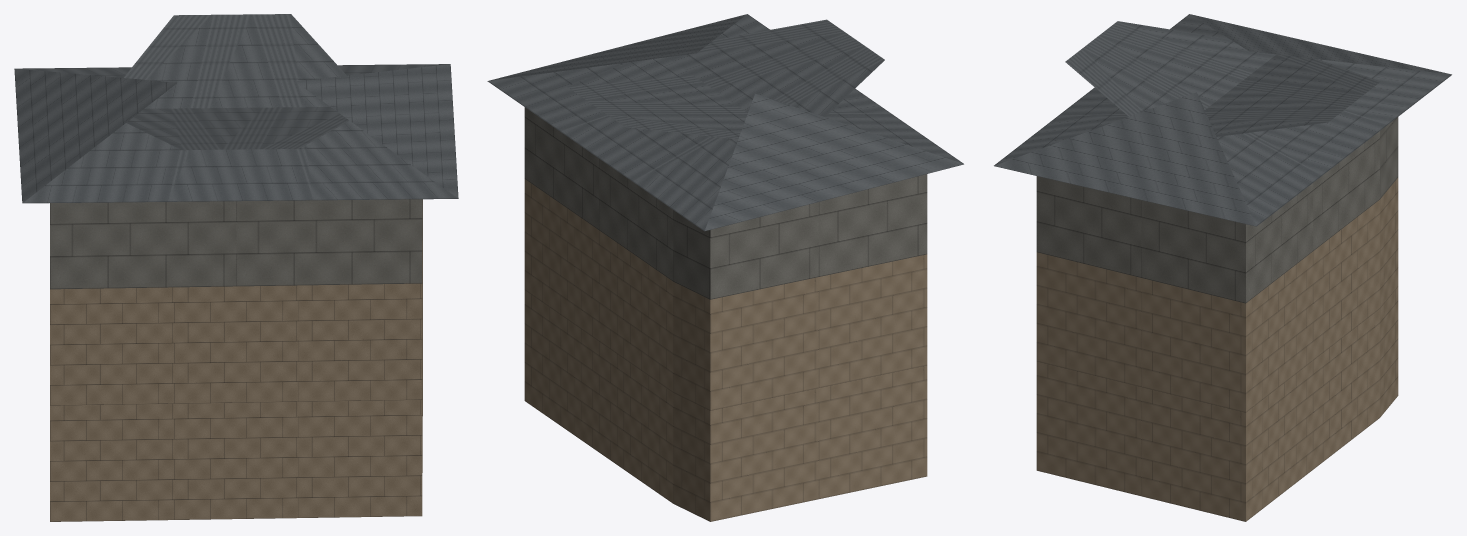
The model's file is bld_c-23_11_543.gltf.
3 renders of one model, left to right at view 1: azimuth 30°, elevation 25°; view 2: azimuth 150°, elevation 25°; view 3: azimuth 270°, elevation 25°, orthographic. The views are drawn at different scales.
Visible parts, largest first — view 1: bld_c-23_11_543; view 2: bld_c-23_11_543; view 3: bld_c-23_11_543.
Boxes of the visible parts, left/top/right/bottom form: bld_c-23_11_543: left=14, top=14, right=458, bottom=521; bld_c-23_11_543: left=487, top=14, right=963, bottom=521; bld_c-23_11_543: left=994, top=14, right=1451, bottom=521.
Bounding box in the file's own units: 9.39 × 7.4 × 8.57.
Materials: 3 (3 with a texture image).
